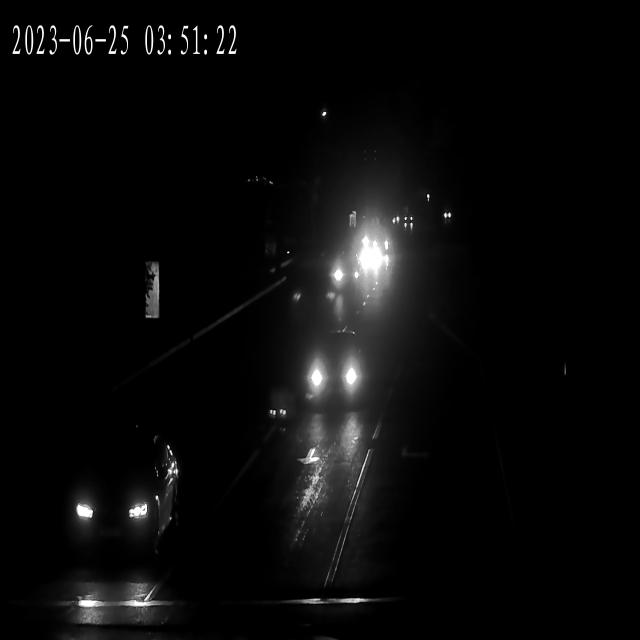Car: (60, 437, 178, 561), (300, 335, 372, 406), (325, 250, 365, 295), (355, 230, 388, 255), (356, 236, 388, 260), (402, 212, 414, 239), (438, 211, 456, 224)
